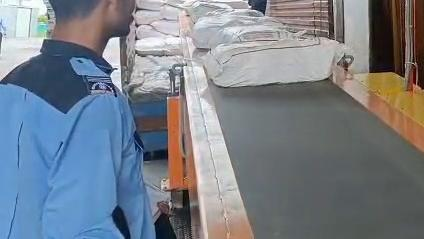box: (203, 38, 347, 87)
